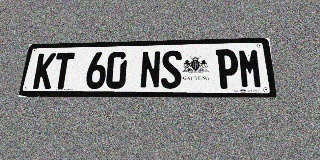0: (105, 51, 127, 89)
6: (85, 52, 108, 89)
K: (32, 53, 56, 89)
M: (238, 48, 263, 89)
N: (139, 51, 161, 89)
P: (216, 49, 240, 89)
S: (161, 50, 182, 89)
T: (51, 53, 75, 89)
